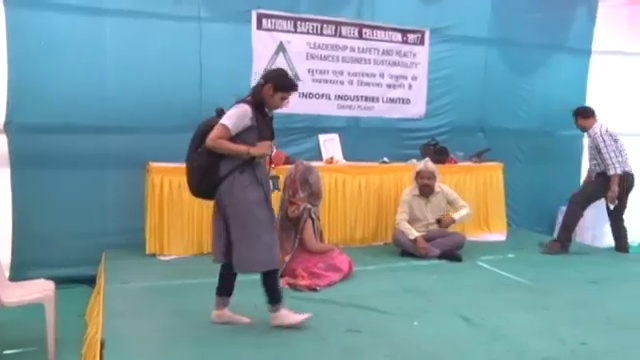helmet_off: (251, 70, 298, 113), (281, 162, 322, 205), (412, 159, 438, 195), (573, 107, 596, 133)
person: (186, 68, 315, 330), (537, 107, 635, 255), (277, 156, 355, 294), (392, 159, 473, 264)
